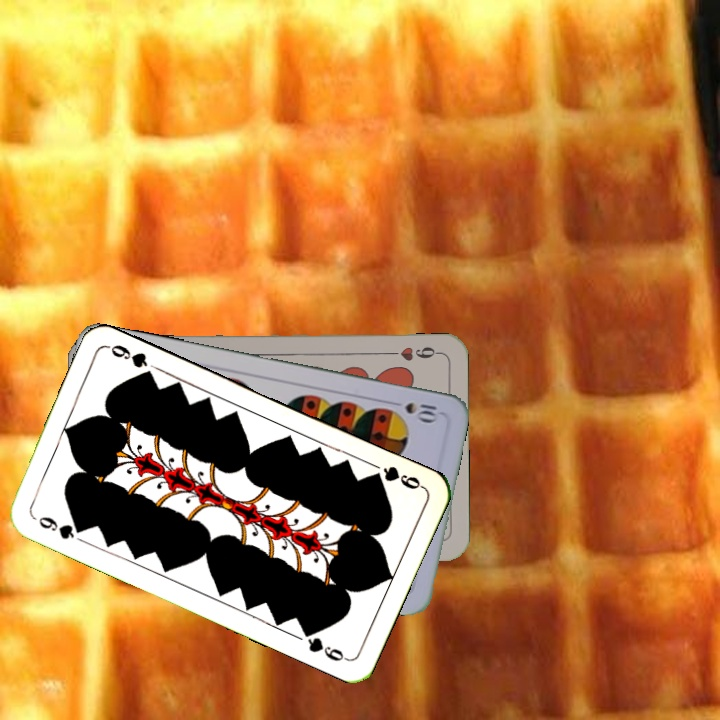G9: (366, 462, 426, 492), (34, 512, 88, 543)
H9: (383, 342, 442, 363)
S10: (385, 396, 439, 424)
